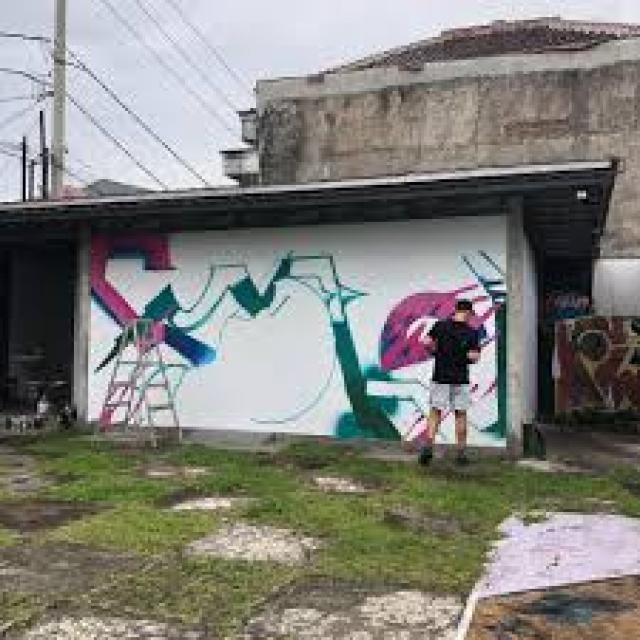-: (87, 225, 509, 444), (554, 294, 640, 426)
